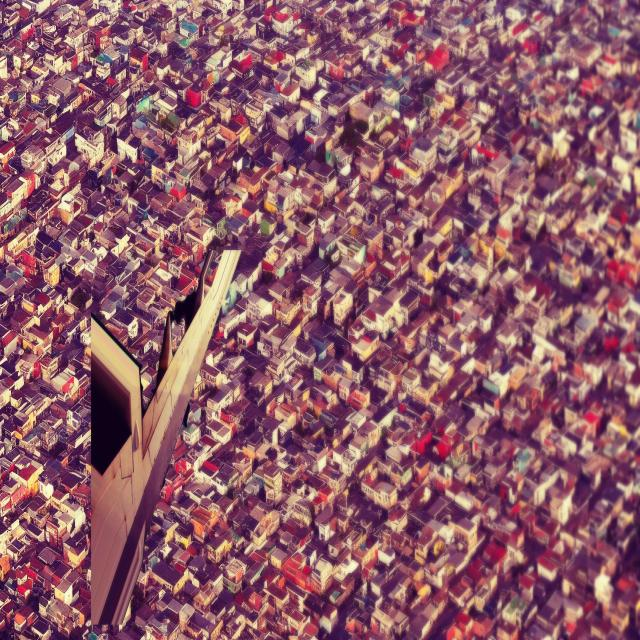airplane: (88, 246, 242, 635)
